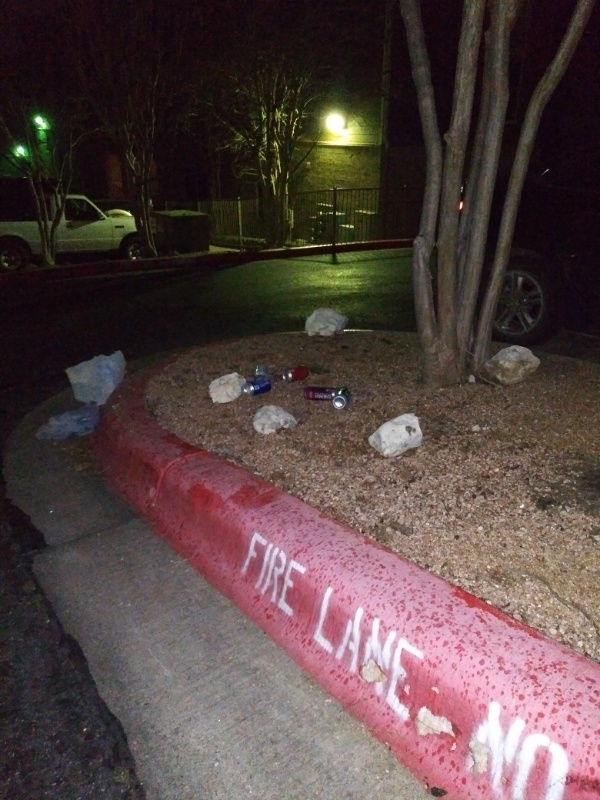can: (299, 385, 337, 403), (279, 364, 311, 383), (241, 378, 272, 397), (330, 386, 353, 410), (252, 363, 268, 379)
